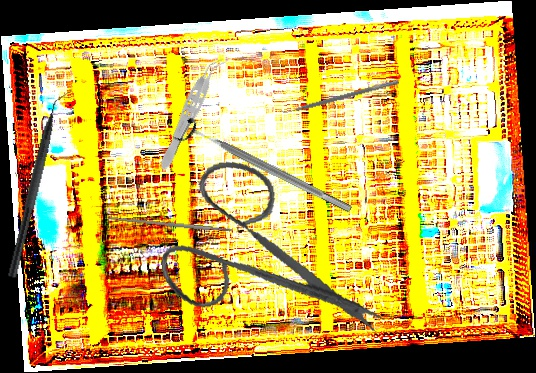Chopper: (7, 84, 74, 282)
Fixation Ring: (177, 115, 357, 223)
Iris Scissors: (147, 140, 389, 366)
Scalpel Handle: (108, 215, 232, 234)
Spatula Surgical: (278, 74, 399, 118)
Tissue Forceps: (154, 52, 227, 174)
